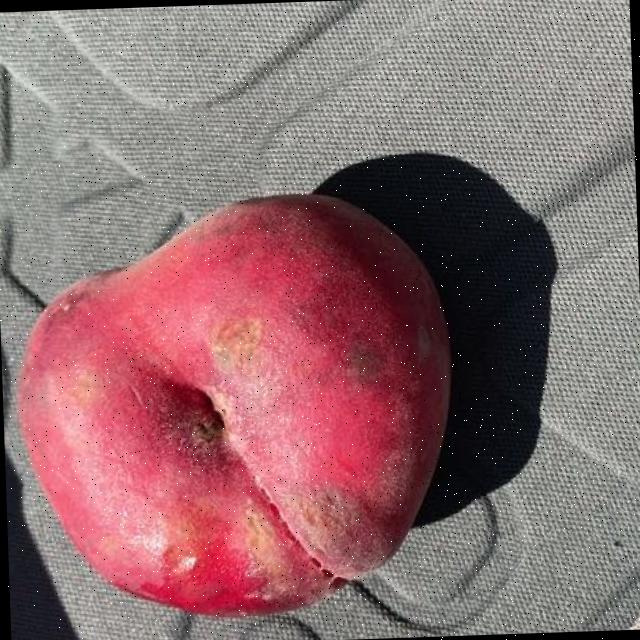peach: (20, 203, 445, 604)
